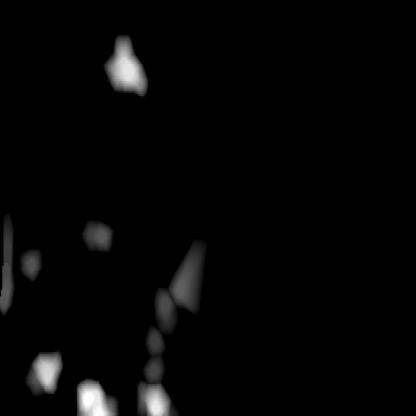fingers: (104, 34, 147, 98)
palm: (2, 250, 172, 414)
